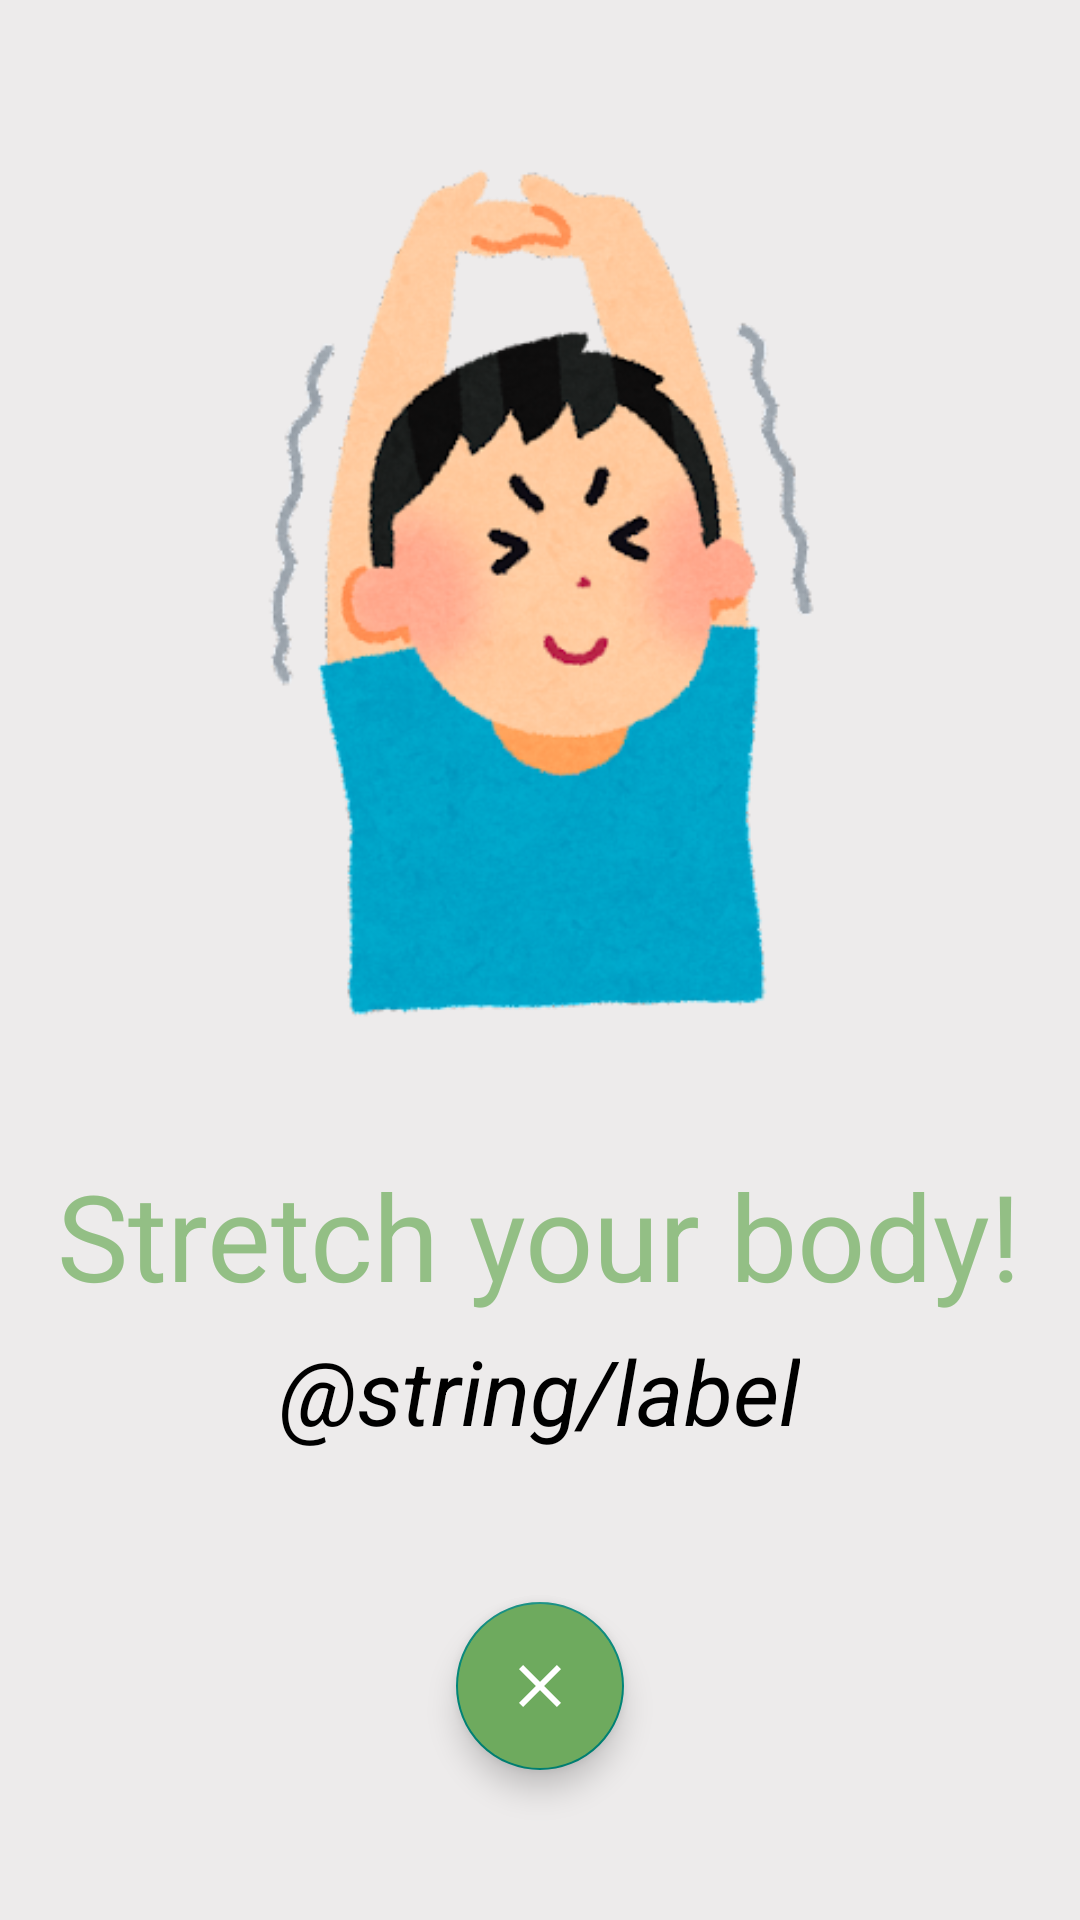

Point at icon controls on the screen. Image size 1080px x 1920px, points as (x=x, y=y).
close: (x=540, y=1686)
